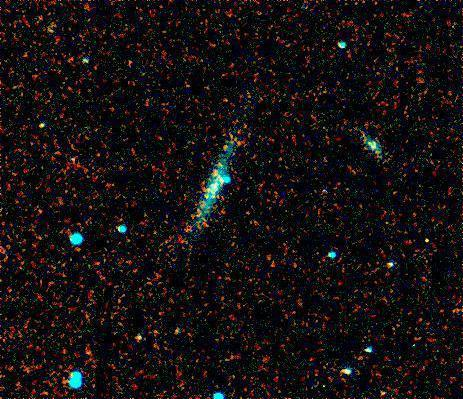star: (124, 326, 154, 356)
